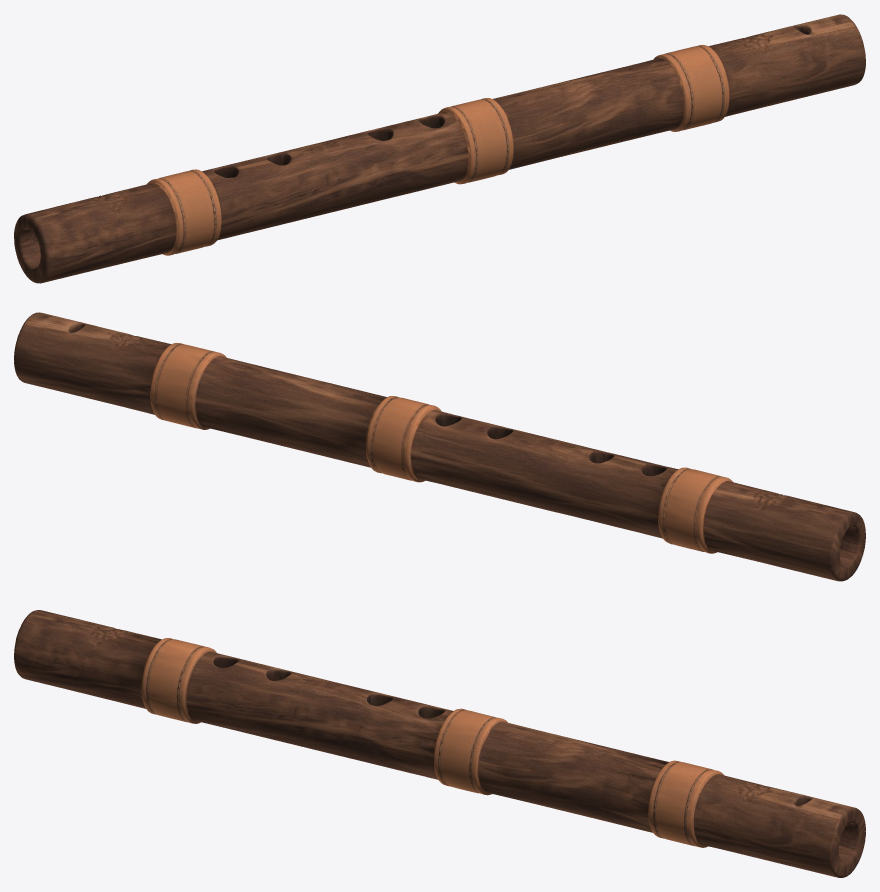
Rendered from sybyzgy.glb.
3 views of the same model, one above another, from view 1: azimuth 30°, elevation 25°; view 2: azimuth 150°, elevation 25°; view 3: azimuth 330°, elevation 25° (orthographic).
Size of the model in its own units: 1.9 by 0.1603 by 0.1549.
Materials: 1 (1 with a texture image).
